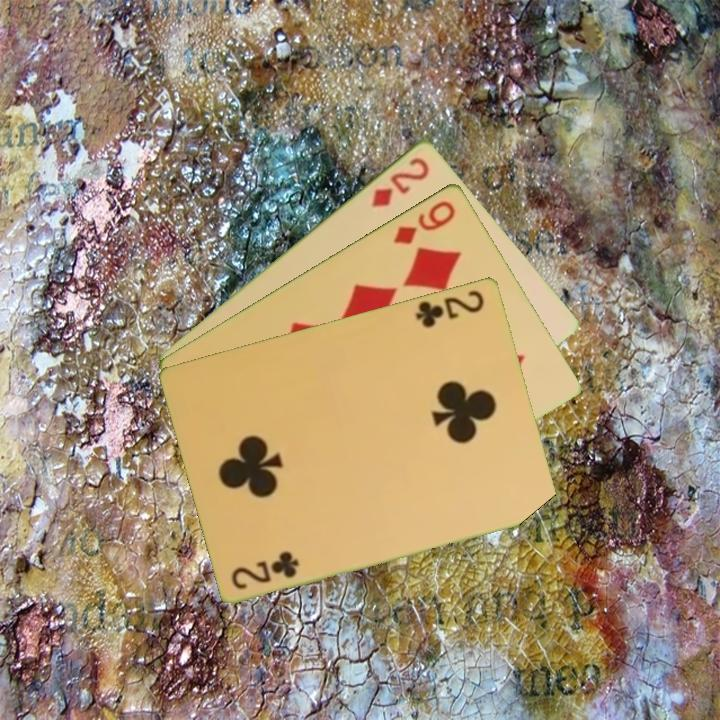2c: (412, 286, 488, 330), (228, 549, 303, 592)
2d: (368, 153, 432, 210)
9d: (390, 196, 459, 247)
